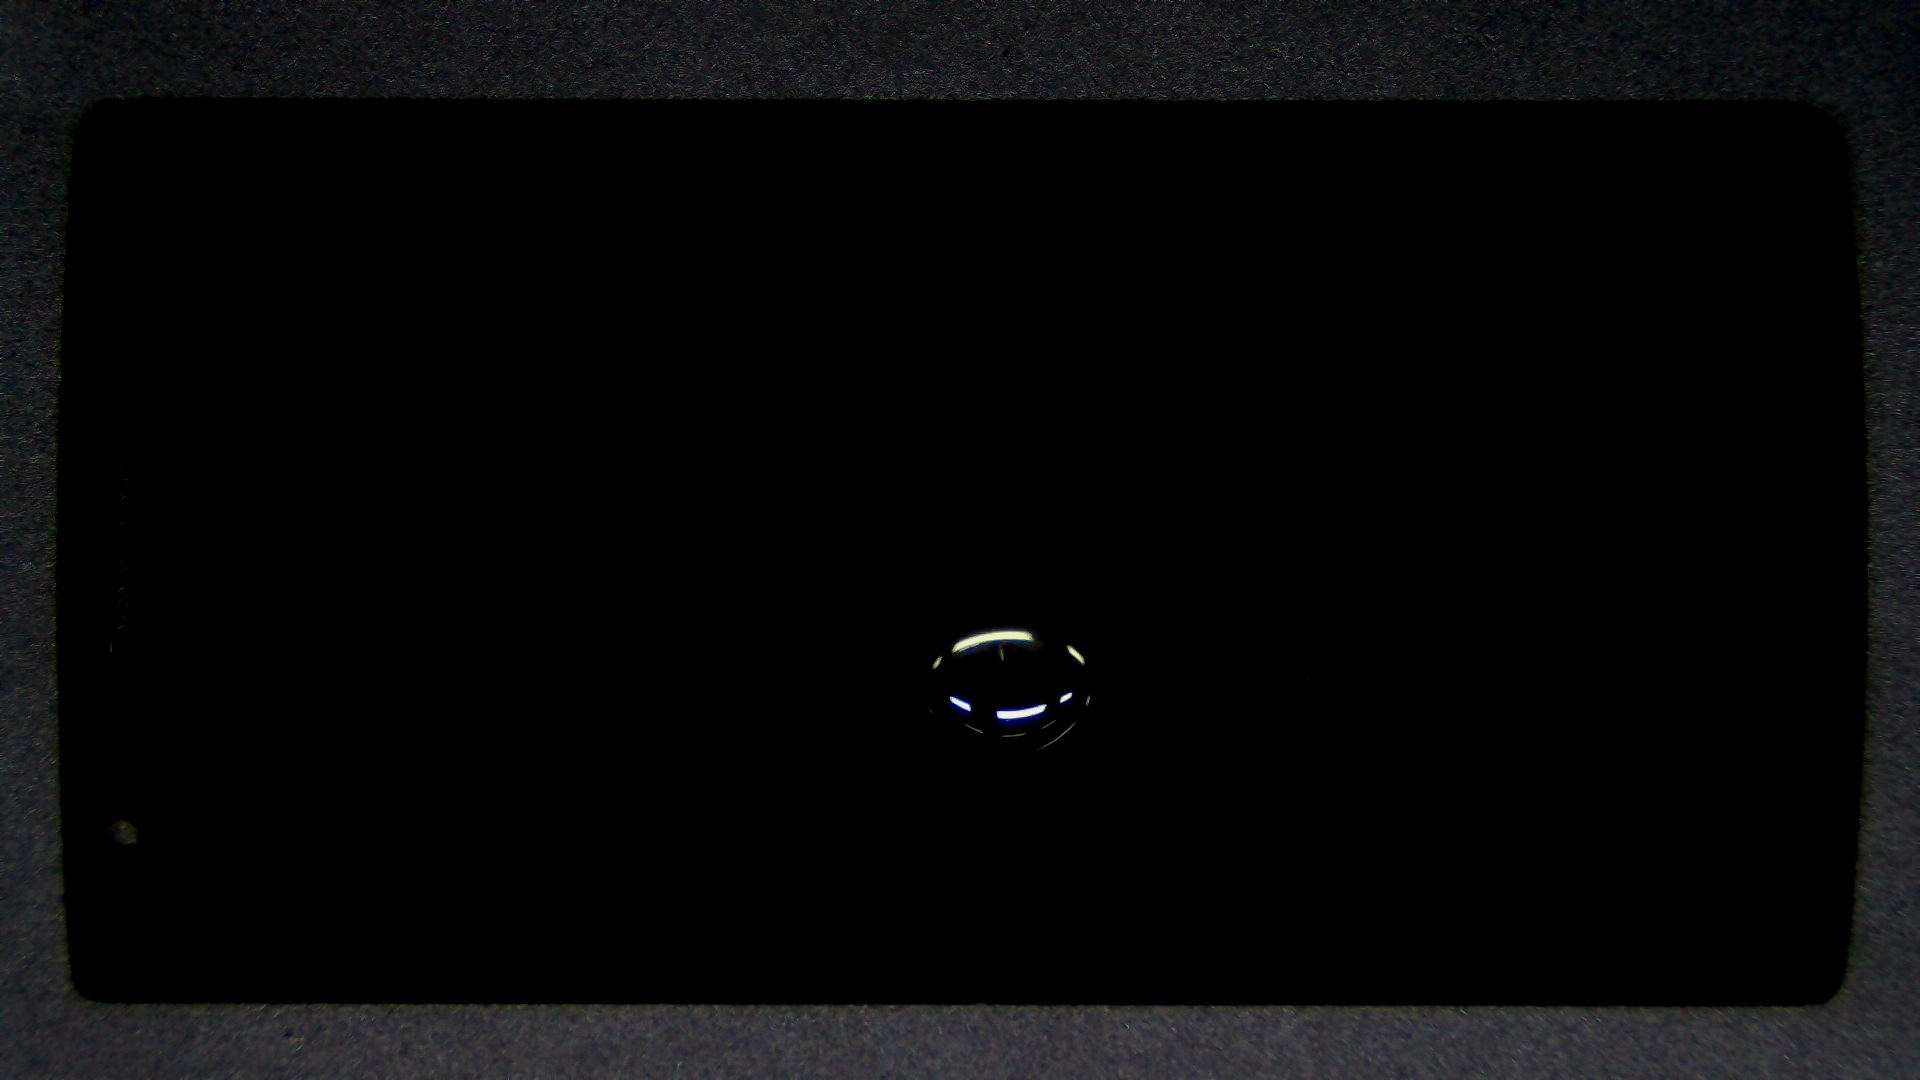oil: (508, 306, 1522, 919)
